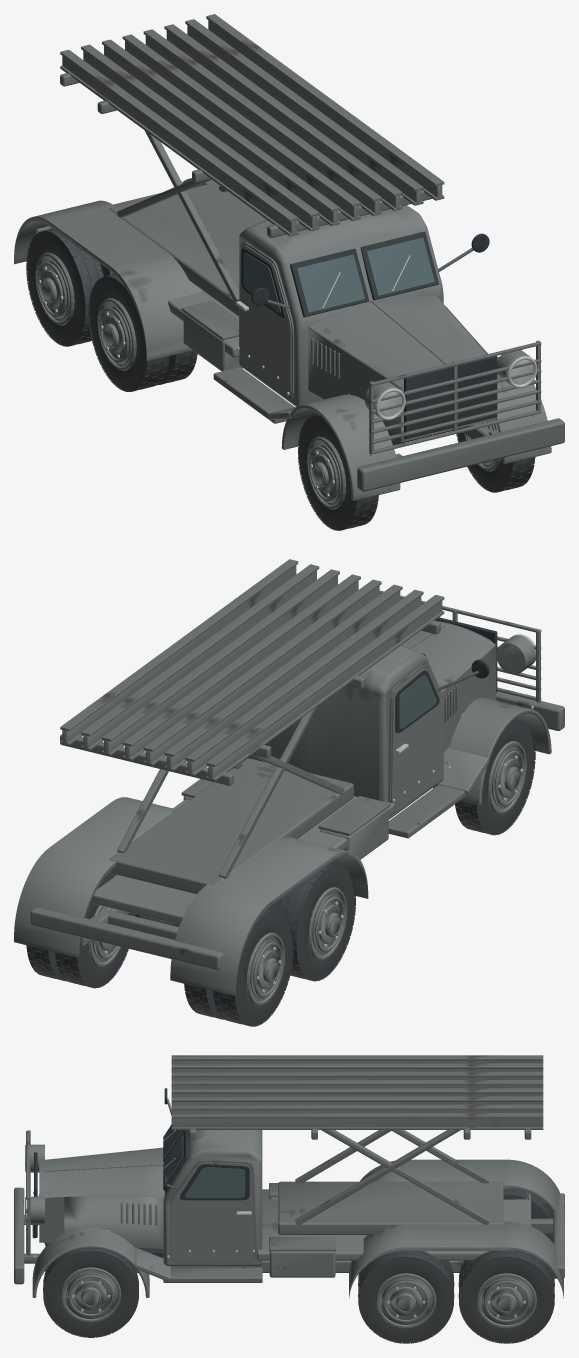
File: bm13-us6-visual-prop.glb
3 views of the same model, one above another, from view 1: azimuth 30°, elevation 25°; view 2: azimuth 150°, elevation 25°; view 3: azimuth 270°, elevation 25° (orthographic). The views are drawn at different scales.
Visible parts, largest first — view 1: BM13_Empty_Rack_Exterior-BM13_fitting.012-batch, BM13_Empty_Rack_Exterior-BM13_paint.012-batch, BM13_Fenders_Steps-BM13_paint.012-batch, BM13_Hood_Grille-BM13_paint.012-batch, BM13_Cab_Exterior-BM13_paint.012-batch, BM13_Hood_Grille-BM13_fitting.012-batch, BM13_Cab_Exterior-BM13_glass.012-batch, BM13_Chassis_Exterior-BM13_fitting.012-batch, BM13_PGF_Tire007, BM13_Radiator_Dark_Face, BM13_PGF_Tire003, BM13_PGF_Tire (+12 smaller); view 2: BM13_Empty_Rack_Exterior-BM13_fitting.012-batch, BM13_Fenders_Steps-BM13_paint.012-batch, BM13_Empty_Rack_Exterior-BM13_paint.012-batch, BM13_Cab_Exterior-BM13_paint.012-batch, BM13_Chassis_Exterior-BM13_fitting.012-batch, BM13_Hood_Grille-BM13_paint.012-batch, BM13_Chassis_Exterior-BM13_paint.012-batch, BM13_PGF_Tire003, BM13_PGF_Tire007, BM13_PGF_Tire, BM13_PGF_Tire008, BM13_Hood_Grille-BM13_fitting.012-batch (+10 smaller); view 3: BM13_Empty_Rack_Exterior-BM13_fitting.012-batch, BM13_Fenders_Steps-BM13_paint.012-batch, BM13_Empty_Rack_Exterior-BM13_paint.012-batch, BM13_Hood_Grille-BM13_paint.012-batch, BM13_Cab_Exterior-BM13_paint.012-batch, BM13_PGF_Tire005, BM13_PGF_Tire009, BM13_Chassis_Exterior-BM13_paint.012-batch, BM13_PGF_Tire001, BM13_Chassis_Exterior-BM13_fitting.012-batch, BM13_Cab_Exterior-BM13_glass.012-batch, BM13_Wheel_1_1_1_Pivot-BM13_wheel.012-batch (+11 smaller).
Part boxes in pixels (box(x1,y1,x2,y2)): BM13_Empty_Rack_Exterior-BM13_fitting.012-batch: box(60, 14, 444, 316); BM13_Empty_Rack_Exterior-BM13_paint.012-batch: box(62, 20, 442, 233); BM13_Fenders_Steps-BM13_paint.012-batch: box(14, 178, 551, 500); BM13_Hood_Grille-BM13_paint.012-batch: box(308, 295, 530, 442); BM13_Cab_Exterior-BM13_paint.012-batch: box(239, 205, 443, 406); BM13_Hood_Grille-BM13_fitting.012-batch: box(311, 301, 541, 454); BM13_Cab_Exterior-BM13_glass.012-batch: box(243, 237, 434, 312); BM13_Chassis_Exterior-BM13_fitting.012-batch: box(33, 193, 564, 491); BM13_PGF_Tire007: box(26, 228, 103, 346); BM13_Radiator_Dark_Face: box(404, 356, 497, 439); BM13_PGF_Tire003: box(88, 274, 169, 391); BM13_PGF_Tire: box(298, 414, 378, 530); BM13_Empty_Rack_Exterior-BM13_fitting.012-batch: box(60, 559, 444, 894); BM13_Fenders_Steps-BM13_paint.012-batch: box(14, 698, 551, 995); BM13_Empty_Rack_Exterior-BM13_paint.012-batch: box(62, 565, 442, 778); BM13_Cab_Exterior-BM13_paint.012-batch: box(241, 645, 443, 819); BM13_Chassis_Exterior-BM13_fitting.012-batch: box(30, 691, 564, 970); BM13_Hood_Grille-BM13_paint.012-batch: box(402, 620, 535, 751); BM13_Chassis_Exterior-BM13_paint.012-batch: box(91, 796, 394, 924); BM13_PGF_Tire003: box(278, 863, 355, 981); BM13_PGF_Tire007: box(213, 908, 293, 1026); BM13_PGF_Tire: box(455, 718, 535, 835); BM13_PGF_Tire008: box(55, 872, 135, 988); BM13_Hood_Grille-BM13_fitting.012-batch: box(379, 590, 541, 724); BM13_Empty_Rack_Exterior-BM13_fitting.012-batch: box(171, 1055, 543, 1234); BM13_Fenders_Steps-BM13_paint.012-batch: box(32, 1159, 563, 1298); BM13_Empty_Rack_Exterior-BM13_paint.012-batch: box(171, 1060, 543, 1127); BM13_Hood_Grille-BM13_paint.012-batch: box(29, 1144, 164, 1248); BM13_Cab_Exterior-BM13_paint.012-batch: box(163, 1130, 262, 1266); BM13_PGF_Tire005: box(358, 1251, 454, 1343); BM13_PGF_Tire009: box(458, 1251, 554, 1343); BM13_Chassis_Exterior-BM13_paint.012-batch: box(257, 1189, 531, 1277); BM13_PGF_Tire001: box(43, 1248, 138, 1337); BM13_Chassis_Exterior-BM13_fitting.012-batch: box(14, 1187, 564, 1284); BM13_Cab_Exterior-BM13_glass.012-batch: box(164, 1125, 245, 1198); BM13_Wheel_1_1_1_Pivot-BM13_wheel.012-batch: box(376, 1273, 436, 1328).
Size of the model in its own units: 3.64 by 3.93 by 9.04.
8 materials, 3 textured.
